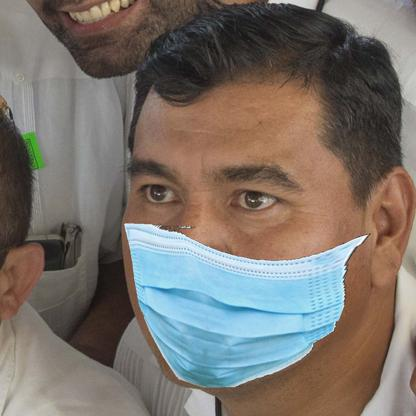mask: (121, 217, 373, 388)
